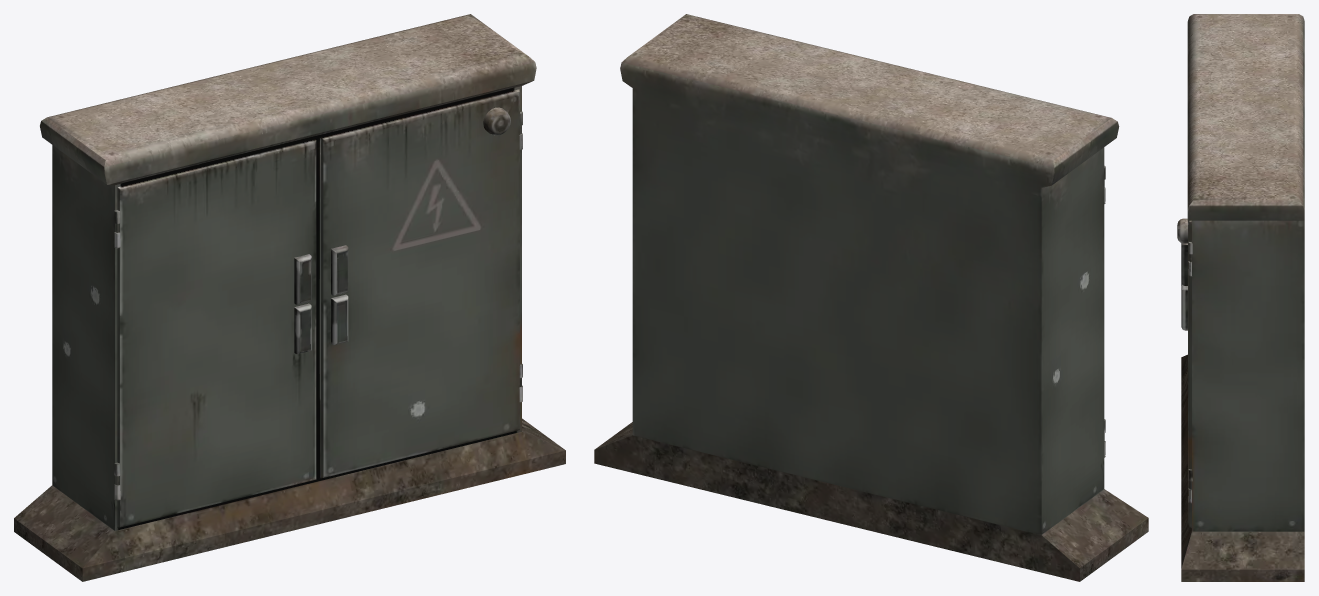
File: electrical_box-otimixad.glb
3 renders of one model, left to right at view 1: azimuth 30°, elevation 25°; view 2: azimuth 150°, elevation 25°; view 3: azimuth 270°, elevation 25°, orthographic. The views are drawn at different scales.
Parts seen in each view (by area): view 1: defaultMaterial; view 2: defaultMaterial; view 3: defaultMaterial.
Part boxes in pixels (left/top/right/bottom): defaultMaterial: left=14, top=14, right=565, bottom=581; defaultMaterial: left=594, top=14, right=1148, bottom=581; defaultMaterial: left=1177, top=14, right=1304, bottom=581.
Size of the model in its own units: 1.71 by 1.39 by 0.4334.
Materials: 1 (1 with a texture image).
